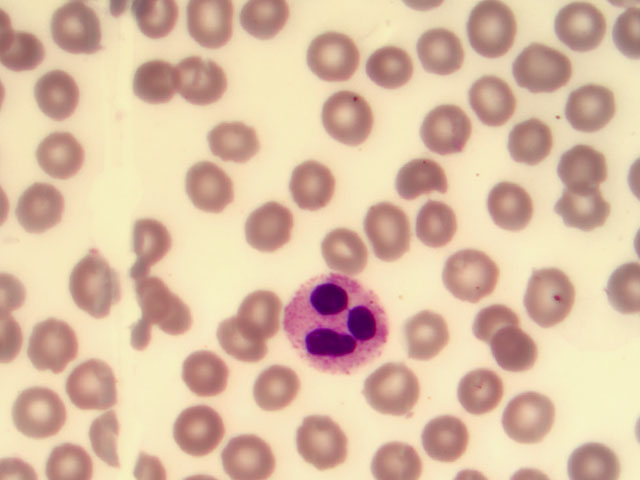RBC: (51, 2, 104, 56), (29, 71, 82, 125), (35, 122, 88, 176), (14, 181, 67, 235), (61, 257, 114, 311), (123, 211, 176, 265), (122, 269, 175, 323), (188, 157, 241, 211), (205, 114, 258, 168), (178, 54, 231, 108), (133, 54, 186, 108), (309, 30, 362, 84), (319, 93, 372, 147), (359, 42, 412, 96), (405, 26, 458, 80), (466, 4, 519, 58), (468, 71, 521, 125), (392, 149, 445, 203), (182, 1, 235, 54), (235, 1, 288, 54), (135, 1, 188, 54), (516, 45, 570, 95), (419, 99, 473, 149), (408, 195, 462, 245), (359, 205, 413, 255), (321, 224, 375, 274), (285, 160, 339, 210), (240, 202, 294, 252), (216, 316, 270, 366), (236, 291, 290, 341), (181, 351, 235, 401), (250, 364, 304, 414), (357, 366, 411, 416), (396, 311, 450, 361), (444, 248, 498, 298), (466, 298, 520, 348), (488, 325, 542, 375), (519, 275, 573, 325), (586, 264, 640, 314), (552, 183, 606, 233), (560, 142, 614, 192), (569, 83, 623, 133), (553, 3, 607, 53), (505, 119, 559, 169), (484, 183, 538, 233), (452, 370, 506, 420), (504, 387, 558, 437), (419, 413, 473, 463), (374, 430, 428, 480), (296, 417, 350, 467), (219, 430, 273, 480), (175, 403, 229, 453), (64, 357, 118, 407), (36, 320, 90, 370), (11, 386, 65, 436), (563, 430, 617, 480), (43, 438, 95, 480)
WBC: (280, 278, 390, 372)
